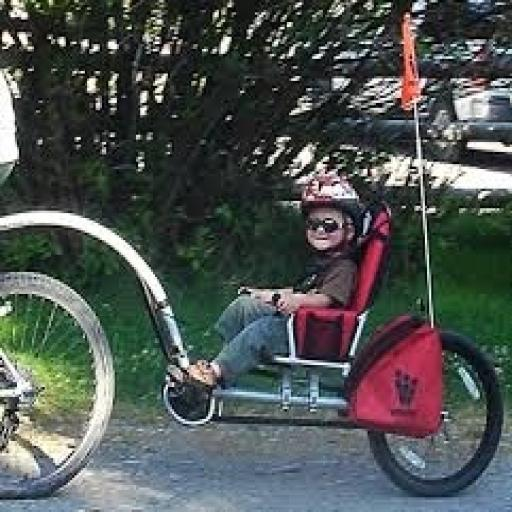cycling: (164, 169, 372, 426)
